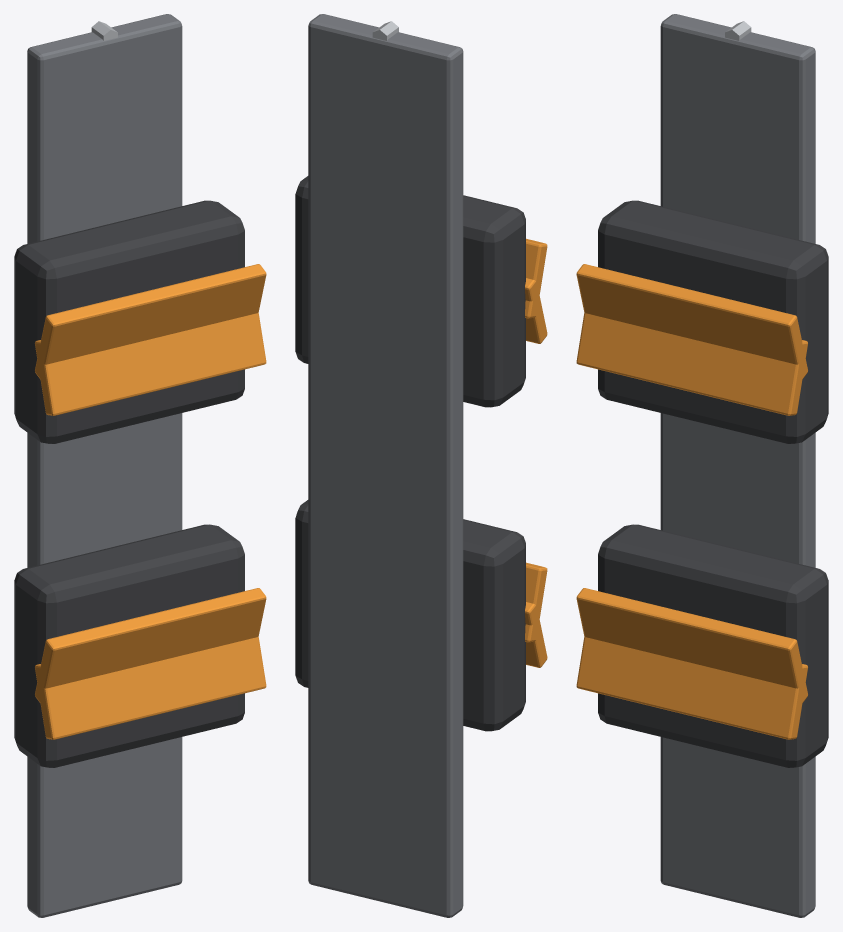
Rendered from drone_bench_cradle.glb.
3 renders of one model, left to right at view 1: azimuth 30°, elevation 25°; view 2: azimuth 150°, elevation 25°; view 3: azimuth 330°, elevation 25°, orthographic.
Parts seen in each view (by area): view 1: DB_CRADLE_rail, DB_CRADLE_block, DB_CRADLE_block.001, DB_CRADLE_pad.002, DB_CRADLE_pad, DB_CRADLE_pad.003, DB_CRADLE_pad.001; view 2: DB_CRADLE_rail, DB_CRADLE_block, DB_CRADLE_block.001, DB_CRADLE_pad.003, DB_CRADLE_pad.001, DB_CRADLE_pad, DB_CRADLE_pad.002; view 3: DB_CRADLE_rail, DB_CRADLE_block, DB_CRADLE_block.001, DB_CRADLE_pad.002, DB_CRADLE_pad, DB_CRADLE_pad.003, DB_CRADLE_pad.001.
Part boxes in pixels (bbox=[...]): DB_CRADLE_rail: bbox=[27, 14, 182, 917]; DB_CRADLE_block: bbox=[14, 524, 244, 767]; DB_CRADLE_block.001: bbox=[14, 200, 244, 443]; DB_CRADLE_pad.002: bbox=[35, 312, 266, 415]; DB_CRADLE_pad: bbox=[35, 636, 266, 739]; DB_CRADLE_pad.003: bbox=[35, 264, 266, 379]; DB_CRADLE_pad.001: bbox=[35, 588, 266, 703]; DB_CRADLE_rail: bbox=[308, 14, 463, 917]; DB_CRADLE_block: bbox=[295, 500, 525, 731]; DB_CRADLE_block.001: bbox=[295, 176, 525, 407]; DB_CRADLE_pad.003: bbox=[525, 238, 547, 318]; DB_CRADLE_pad.001: bbox=[525, 562, 547, 642]; DB_CRADLE_pad: bbox=[525, 602, 547, 667]; DB_CRADLE_pad.002: bbox=[525, 278, 547, 343]; DB_CRADLE_rail: bbox=[660, 14, 815, 917]; DB_CRADLE_block: bbox=[598, 524, 828, 767]; DB_CRADLE_block.001: bbox=[598, 200, 828, 443]; DB_CRADLE_pad.002: bbox=[576, 312, 807, 415]; DB_CRADLE_pad: bbox=[576, 636, 807, 739]; DB_CRADLE_pad.003: bbox=[576, 264, 807, 379]; DB_CRADLE_pad.001: bbox=[576, 588, 807, 703].
Size of the model in its own units: 0.104 by 0.404 by 0.0525.
